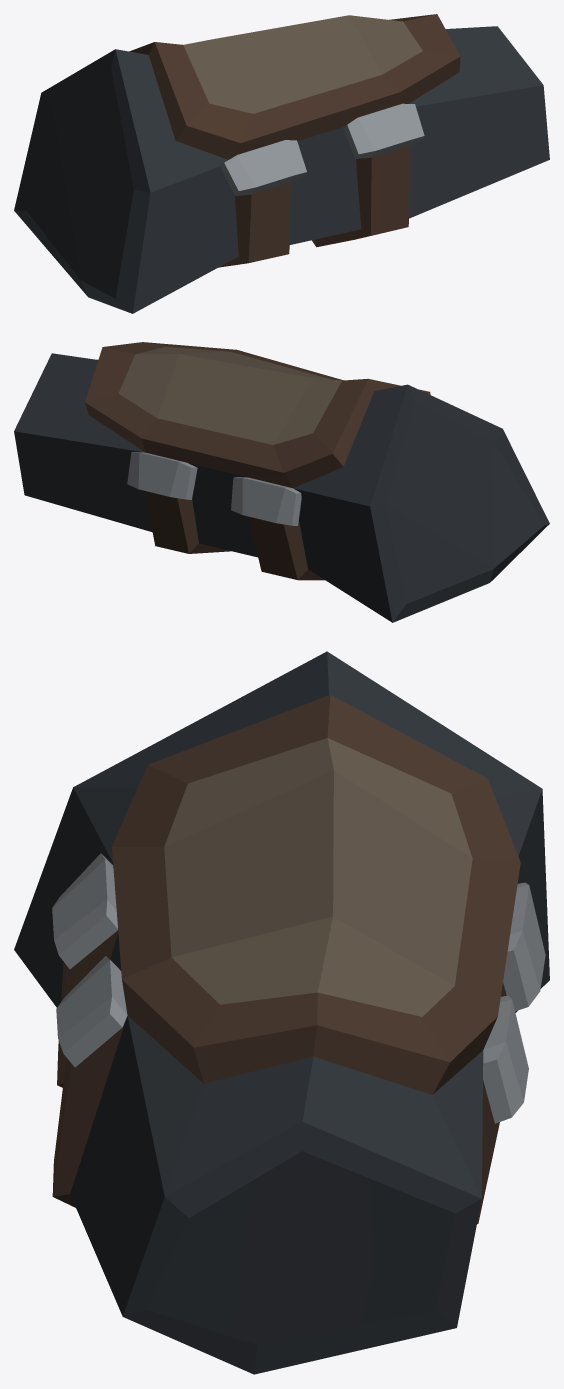
Rendered from Chr_ArmUpperLeft_Male_09_Static.fbx.
3 renders of one model, top to bottom at view 1: azimuth 30°, elevation 25°; view 2: azimuth 150°, elevation 25°; view 3: azimuth 270°, elevation 25°, orthographic. The views are drawn at different scales.
Visible parts, largest first — view 1: Chr_ArmUpperLeft_Male_09_Static; view 2: Chr_ArmUpperLeft_Male_09_Static; view 3: Chr_ArmUpperLeft_Male_09_Static.
Part boxes in pixels (x1=…): Chr_ArmUpperLeft_Male_09_Static: x1=14, y1=14, x2=549, y2=313; Chr_ArmUpperLeft_Male_09_Static: x1=14, y1=342, x2=549, y2=622; Chr_ArmUpperLeft_Male_09_Static: x1=14, y1=651, x2=549, y2=1374.
Size of the model in its own units: 0.3255 by 0.1563 by 0.1736.
